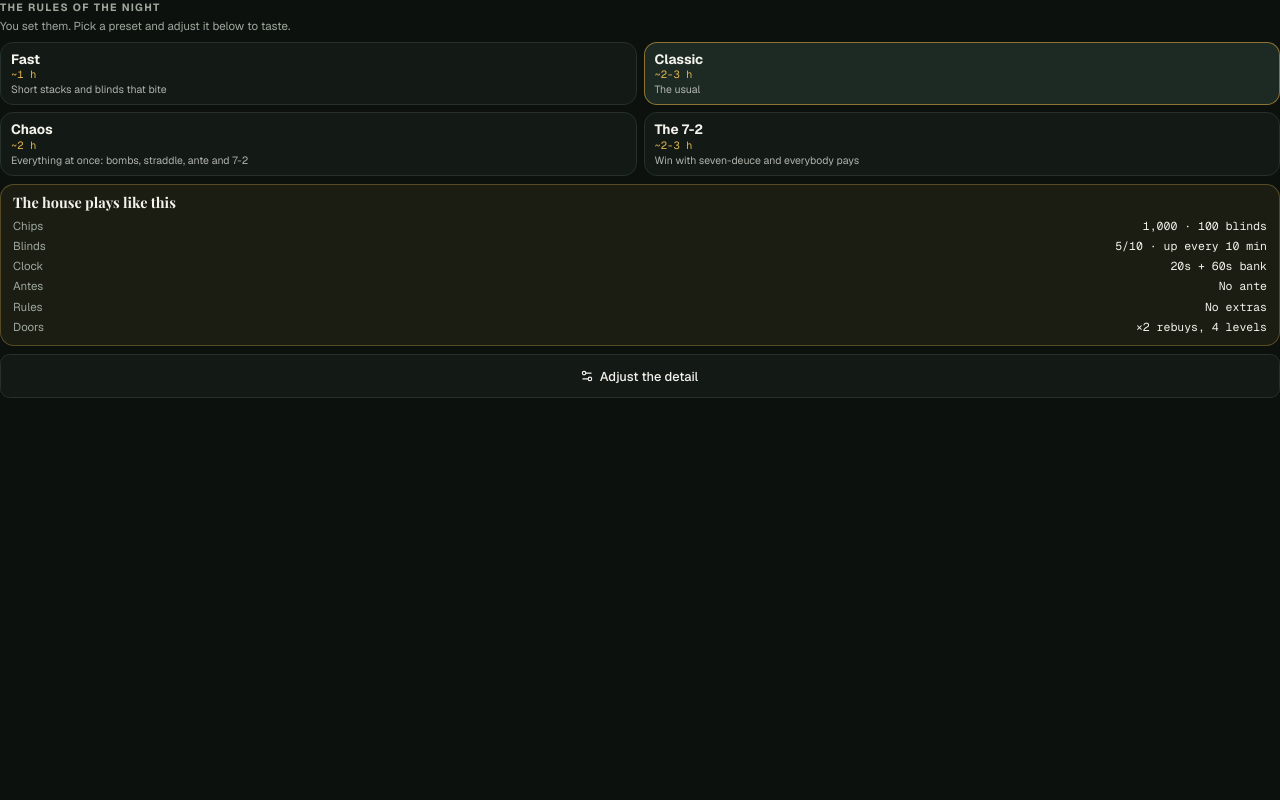
Test: the detail sheet › opens every setting the server accepts, not the three the form used to
Step 1. Click the button "Adjust the detail" → x=640, y=376, box 0,354 -> 1279,398
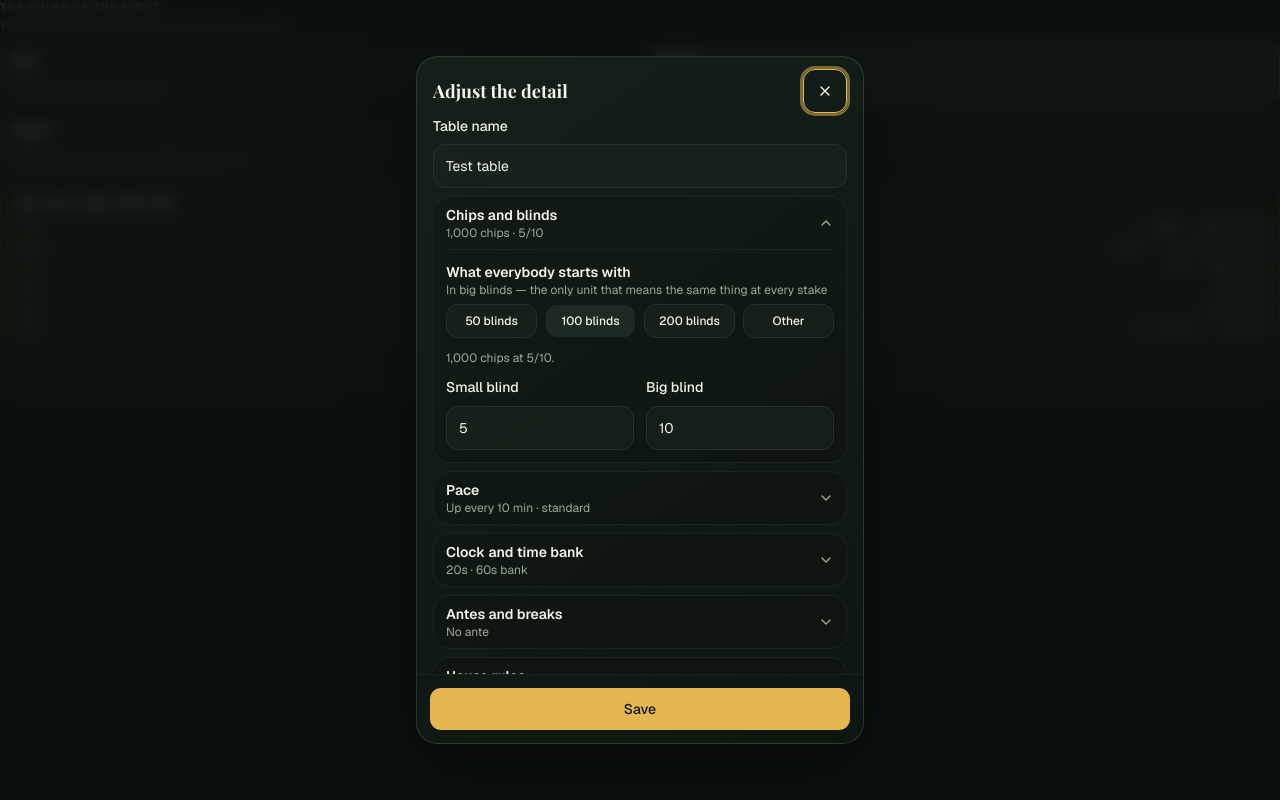
Expected: the text "Clock and time bank" is shown, 446,542 -> 584,562
Expected: the text "Pace" is shown, 446,480 -> 479,498
